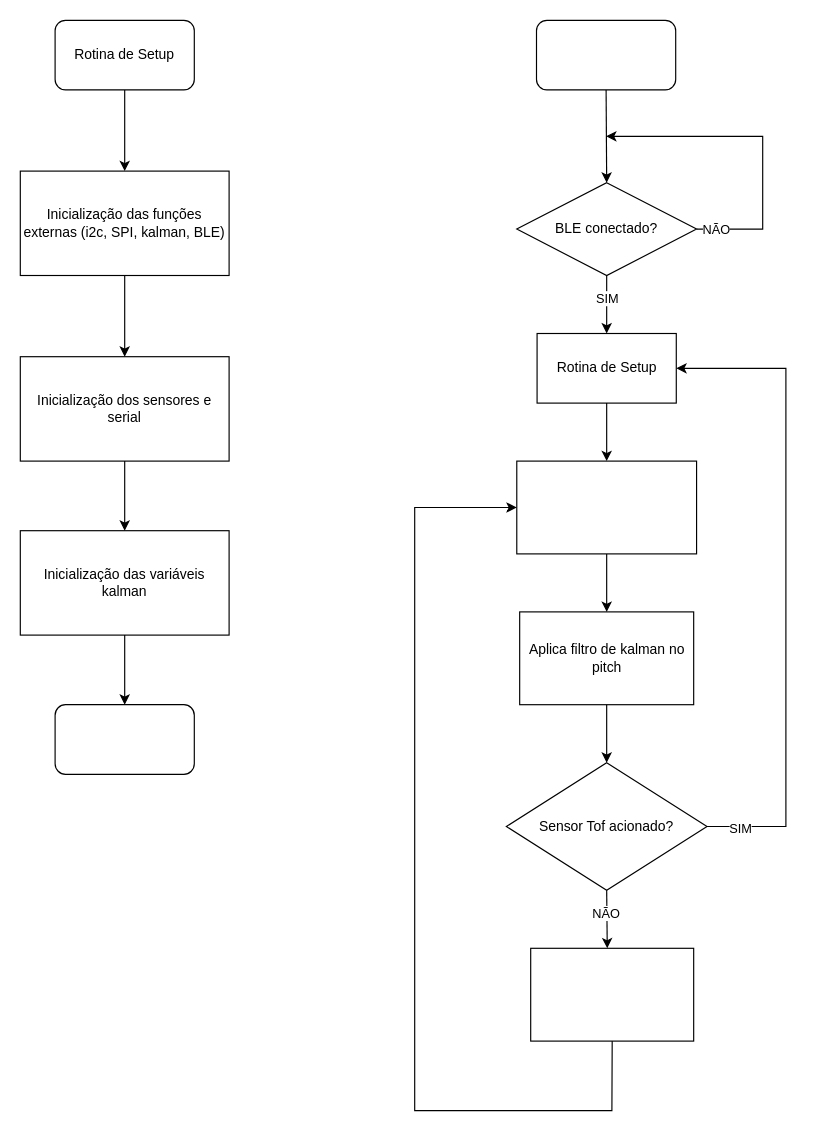
This 815x1140 diagram has some shape labels left out. The centre of each missing label's shape, as x and y in pixels:
Atualiza dados do giroscópio, acelerometro, sensor de ToF e ótico: point 606,507
Fim da rotina de Setup: point 124,739
Inicialização do programa: point 605,54
Sintetiza e envia pacote para o BLE: point 612,994
